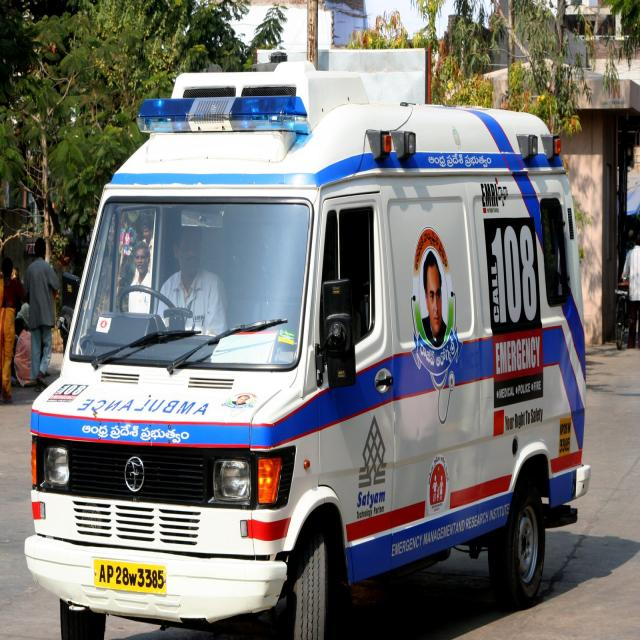Ambulance: (25, 21, 602, 633)
